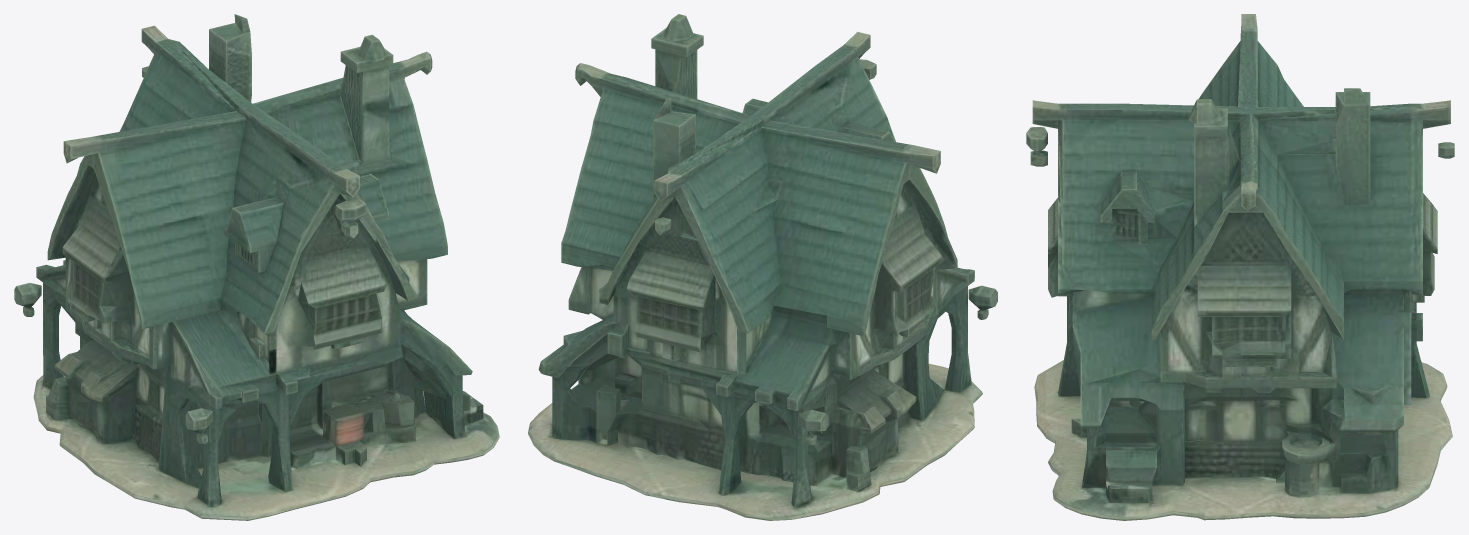
Rendered from inn_crooked.glb.
3 views of the same model, side by side, from view 1: azimuth 30°, elevation 25°; view 2: azimuth 150°, elevation 25°; view 3: azimuth 270°, elevation 25° (orthographic). The views are drawn at different scales.
Size of the model in its own units: 1.86 by 1.81 by 1.85.
Materials: 1 (1 with a texture image).
